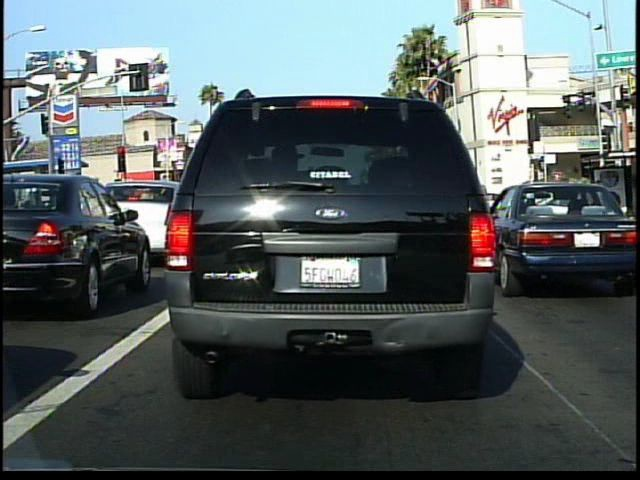person: (587, 170, 611, 227)
